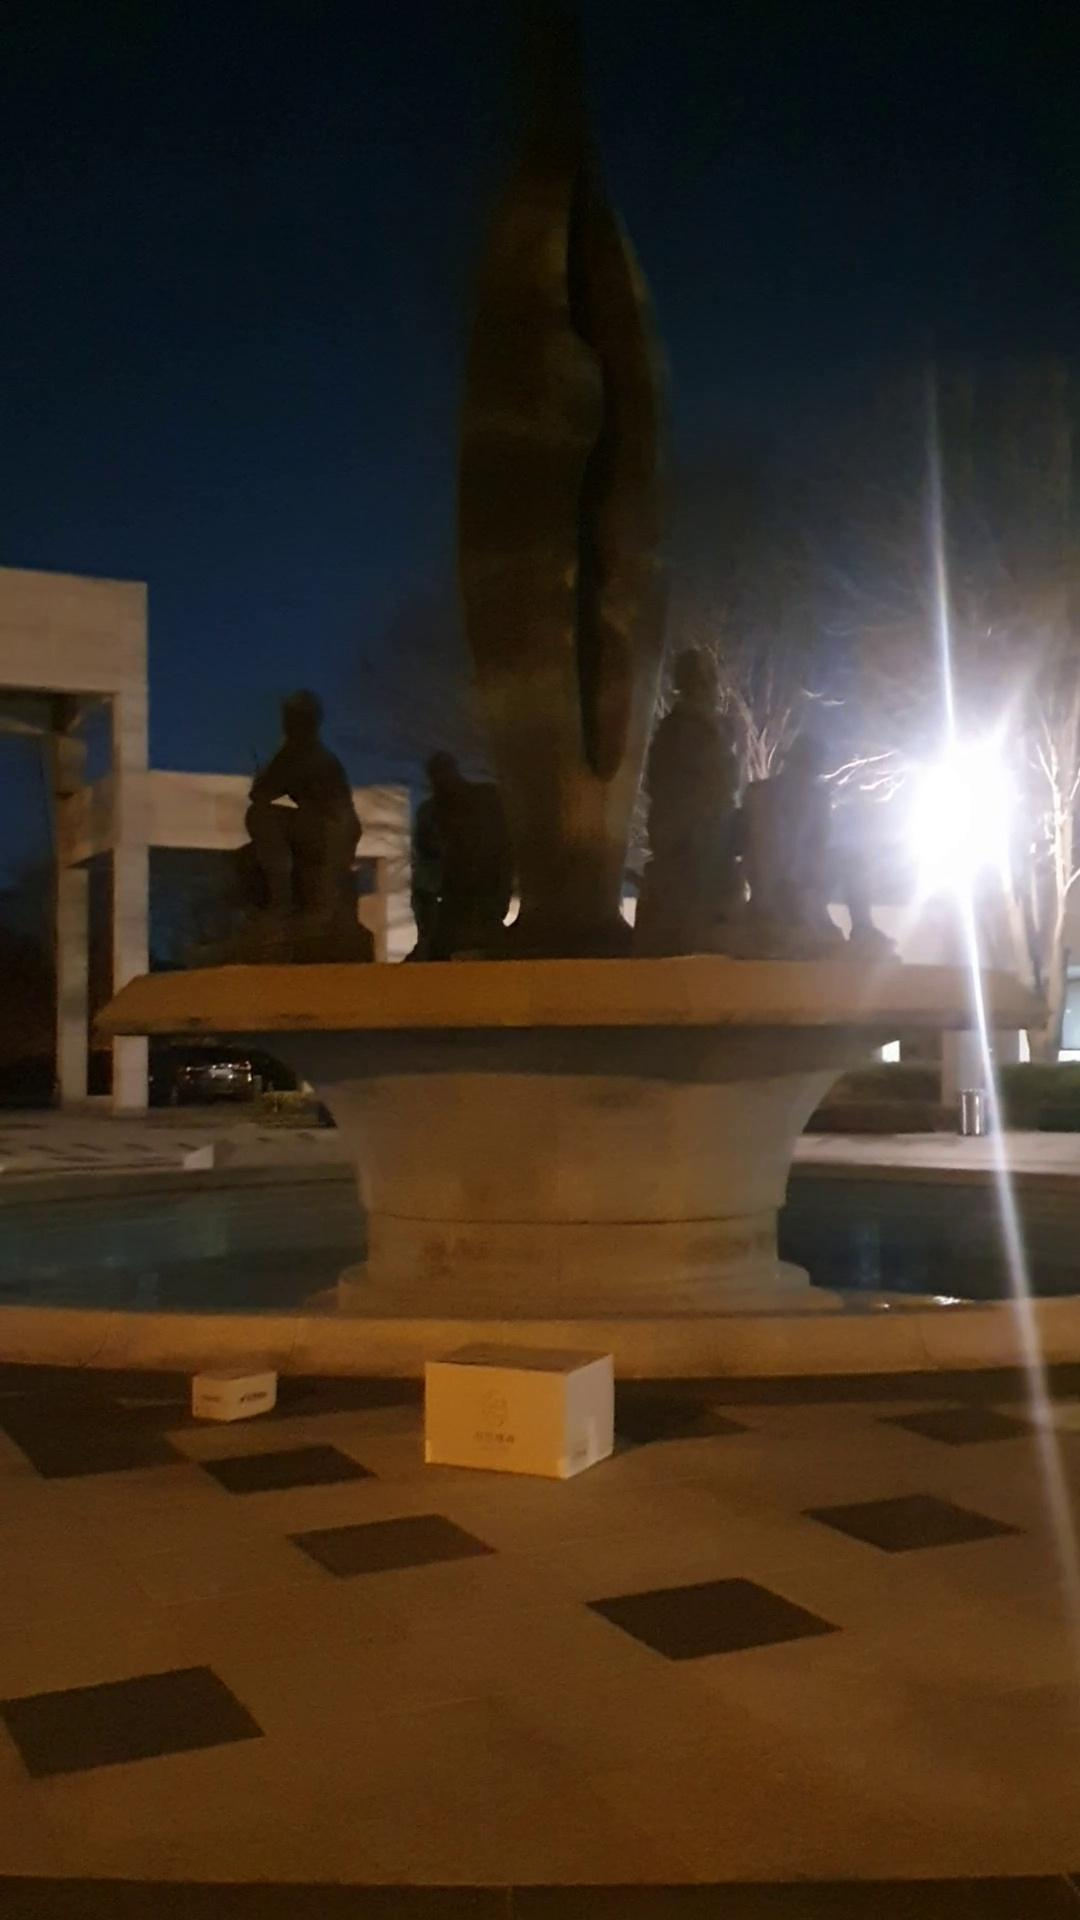Box: (411, 1335, 625, 1485), (178, 1350, 295, 1427)
